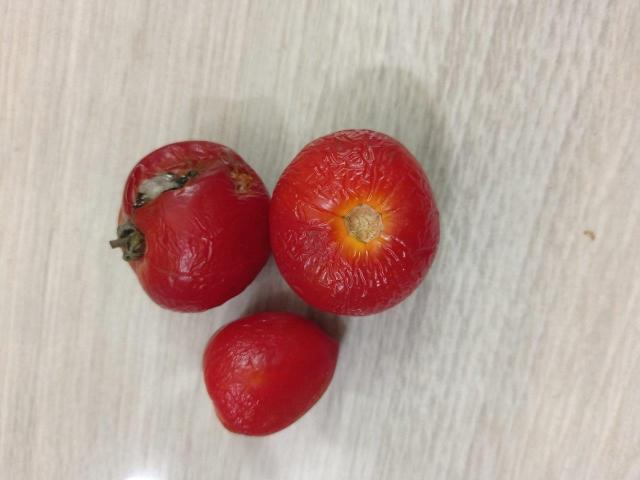defect: (275, 116, 448, 316), (109, 133, 271, 318), (198, 308, 342, 437)
